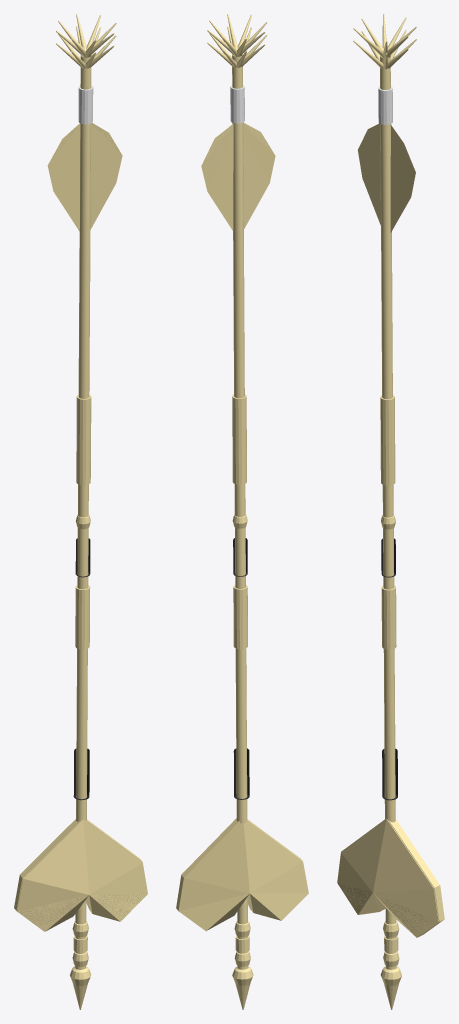
Rendered from Arrow.fbx.
3 renders of one model, left to right at view 1: azimuth 30°, elevation 25°; view 2: azimuth 210°, elevation 25°; view 3: azimuth 330°, elevation 25°, orthographic.
Parts seen in each view (by area): view 1: NurbsPath.011; view 2: NurbsPath.011; view 3: NurbsPath.011.
Part boxes in pixels (x1,y1,x2,y2): NurbsPath.011: [14, 14, 147, 1009]; NurbsPath.011: [176, 14, 308, 1009]; NurbsPath.011: [337, 14, 444, 1009].
Size of the model in its own units: 24.68 by 197 by 12.02.
